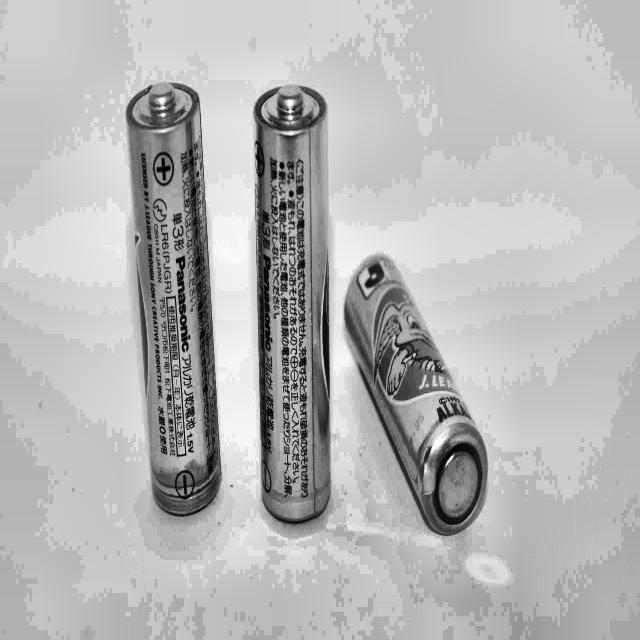drycell: (124, 79, 227, 518), (344, 250, 490, 538), (250, 76, 336, 531)
